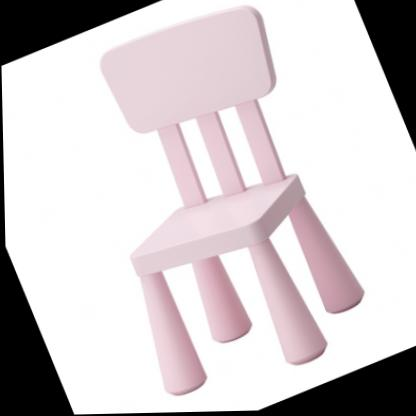Chair: (33, 0, 391, 415)
